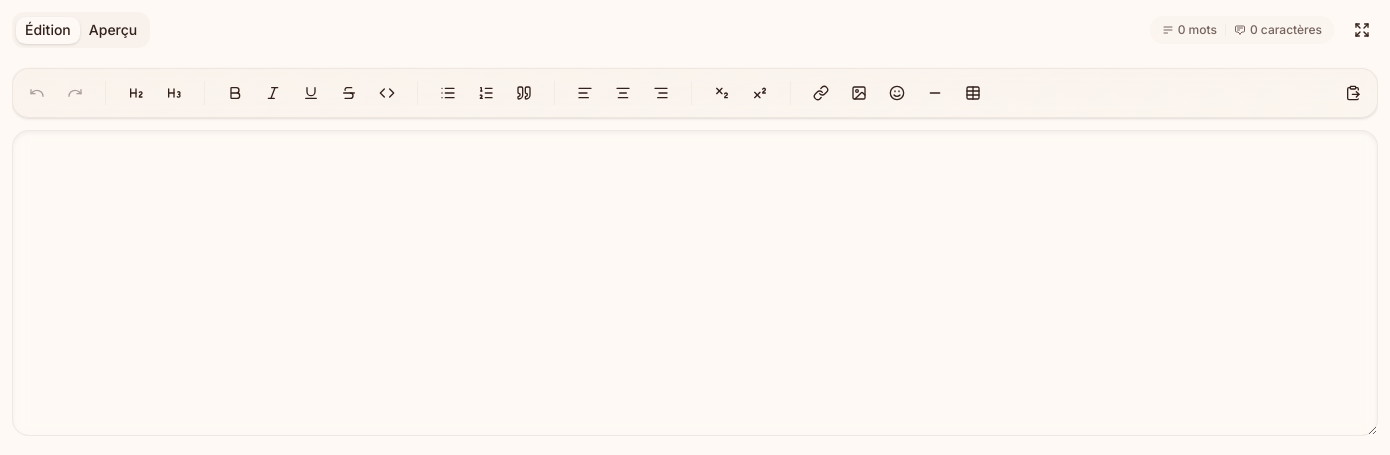
it: ArticleContentEditor › wraps the selection with inline code markers
The width and height of the screenshot is (1390, 455).
In the text box: (695, 283) [12, 130, 1378, 436], type "const x = 1"
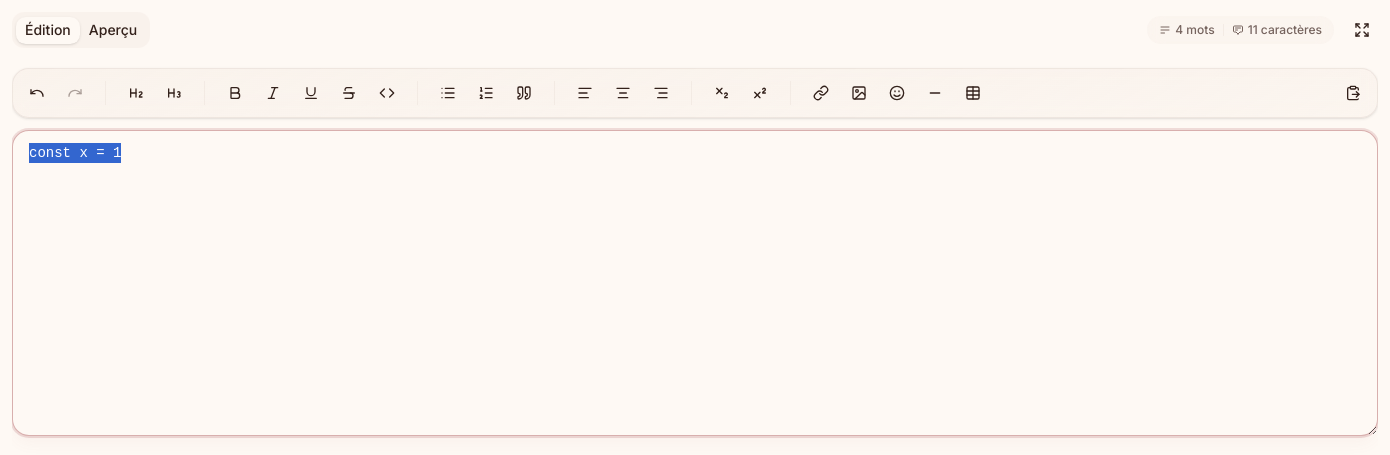
Click the button titled "Code": (387, 93) [371, 77, 403, 109]
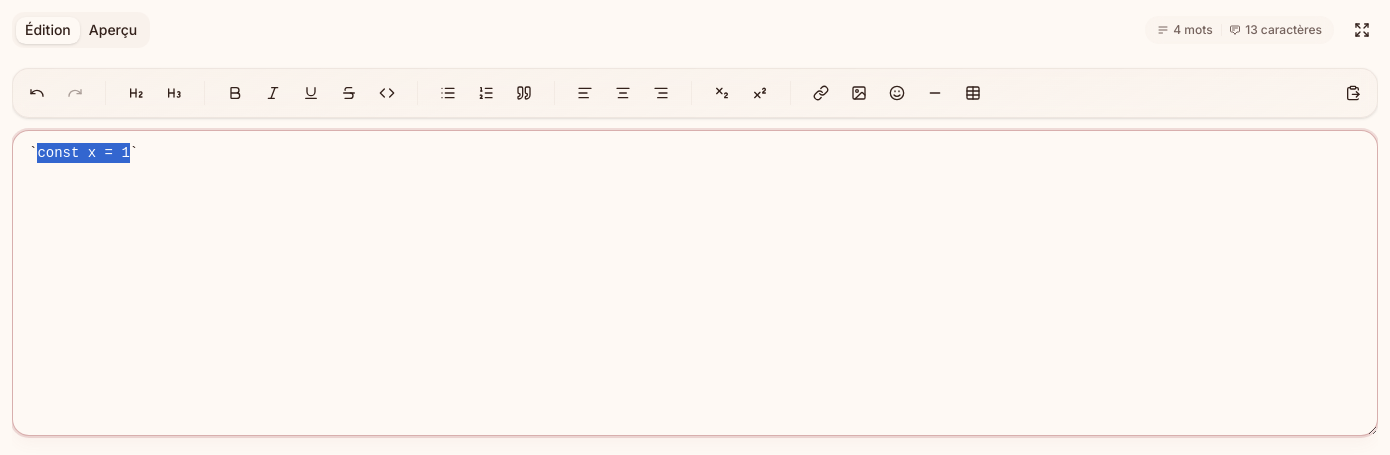
Expected: the text box holds "`const x = 1`"
